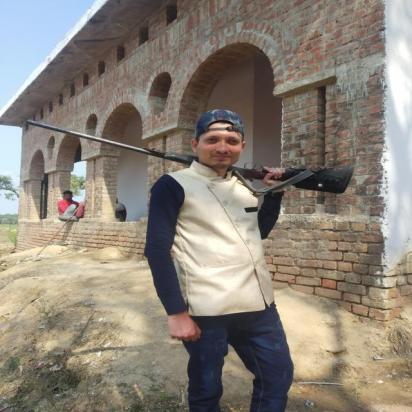Gun: (25, 118, 356, 195)
